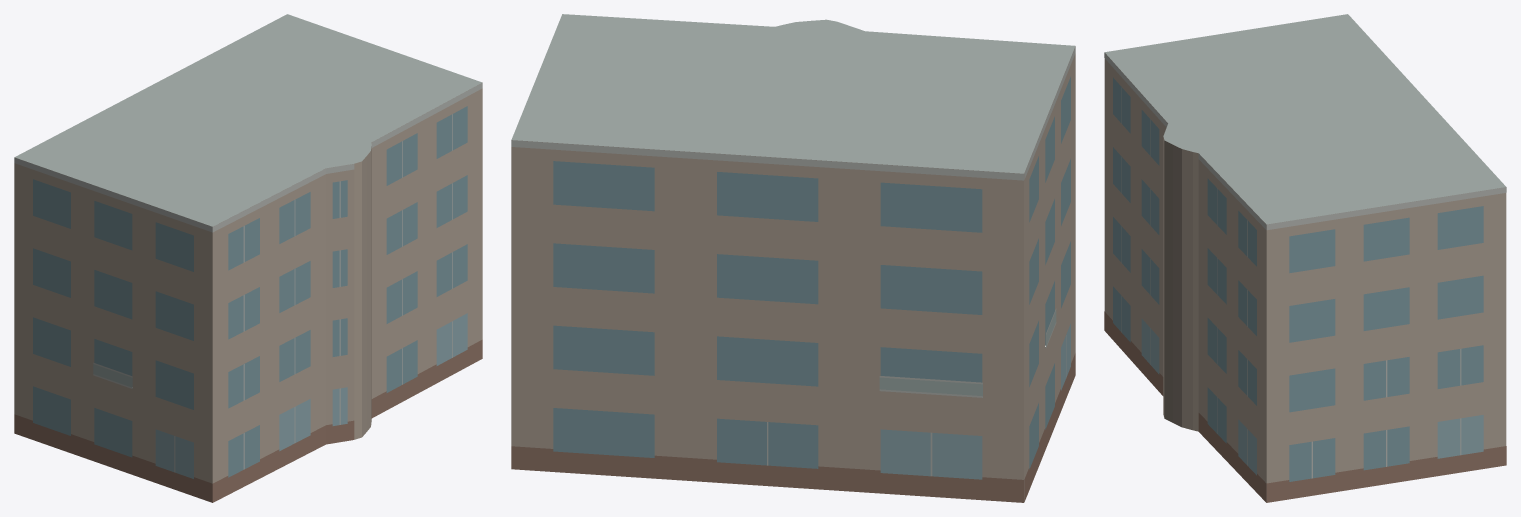
The model's file is survey-upis-32865226.glb.
3 views of the same model, side by side, from view 1: azimuth 30°, elevation 25°; view 2: azimuth 150°, elevation 25°; view 3: azimuth 270°, elevation 25° (orthographic). The views are drawn at different scales.
Parts seen in each view (by area): view 1: survey-upis-32865226.tmp; view 2: survey-upis-32865226.tmp; view 3: survey-upis-32865226.tmp.
Part boxes in pixels (x1,y1,x2,y2): survey-upis-32865226.tmp: [14, 14, 482, 502]; survey-upis-32865226.tmp: [511, 14, 1075, 502]; survey-upis-32865226.tmp: [1104, 14, 1506, 502].
Size of the model in its own units: 18.98 by 11.7 by 15.32.
